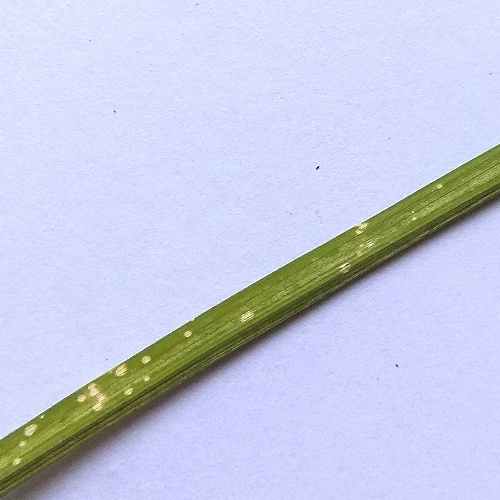Busuk Leher: (72, 380, 114, 413), (15, 414, 45, 450), (235, 303, 262, 330), (348, 213, 374, 240), (2, 455, 34, 473), (335, 251, 357, 277), (107, 357, 130, 380), (177, 321, 197, 342), (124, 384, 142, 401), (143, 353, 156, 369)
